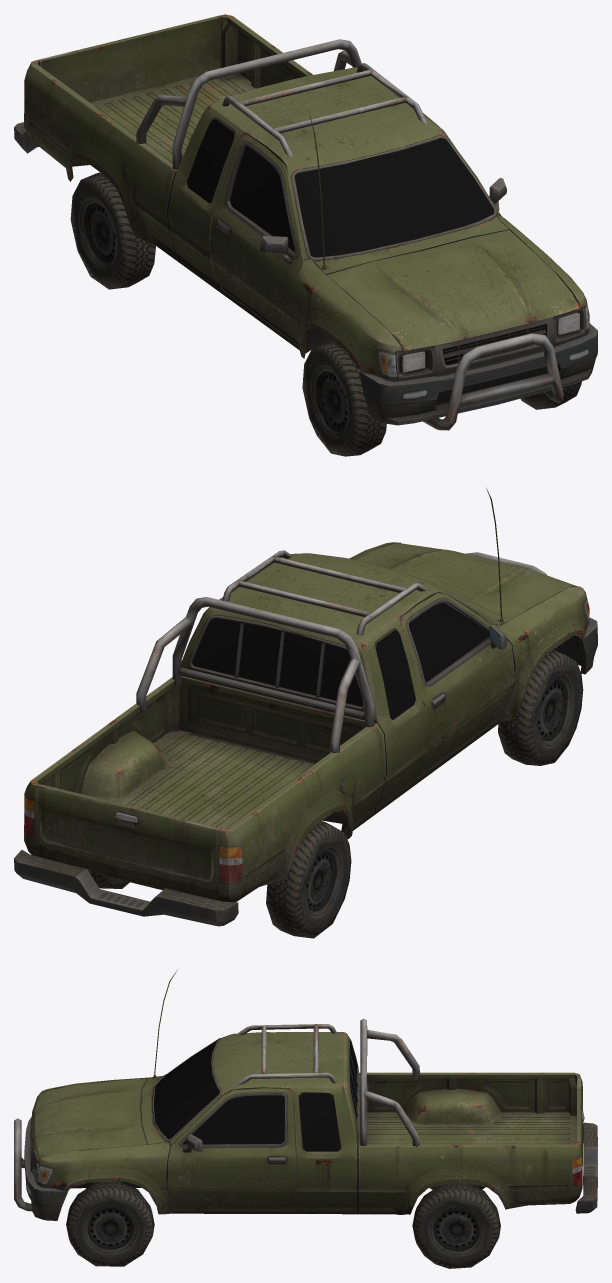
3 renders of one model, top to bottom at view 1: azimuth 30°, elevation 25°; view 2: azimuth 150°, elevation 25°; view 3: azimuth 270°, elevation 25°, orthographic. The views are drawn at different scales.
Parts seen in each view (by area): view 1: pickup body; view 2: pickup body; view 3: pickup body.
Part boxes in pixels (x1,y1,x2,y2): pickup body: (14, 14, 597, 456); pickup body: (14, 488, 597, 938); pickup body: (14, 969, 597, 1268).
Bounding box in the file's own units: 2.18 × 2.61 × 6.01.
Materials: 2 (1 with a texture image).
